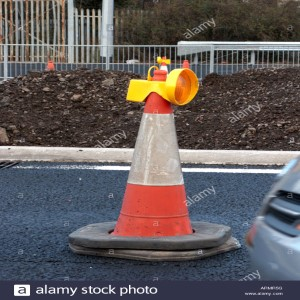traffic cone: (67, 68, 242, 263)
